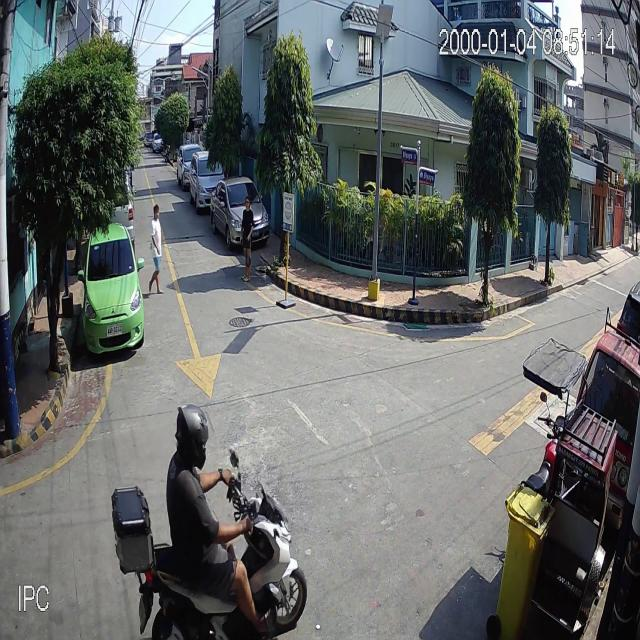standing: (240, 195, 255, 282)
walking: (148, 204, 165, 296)
